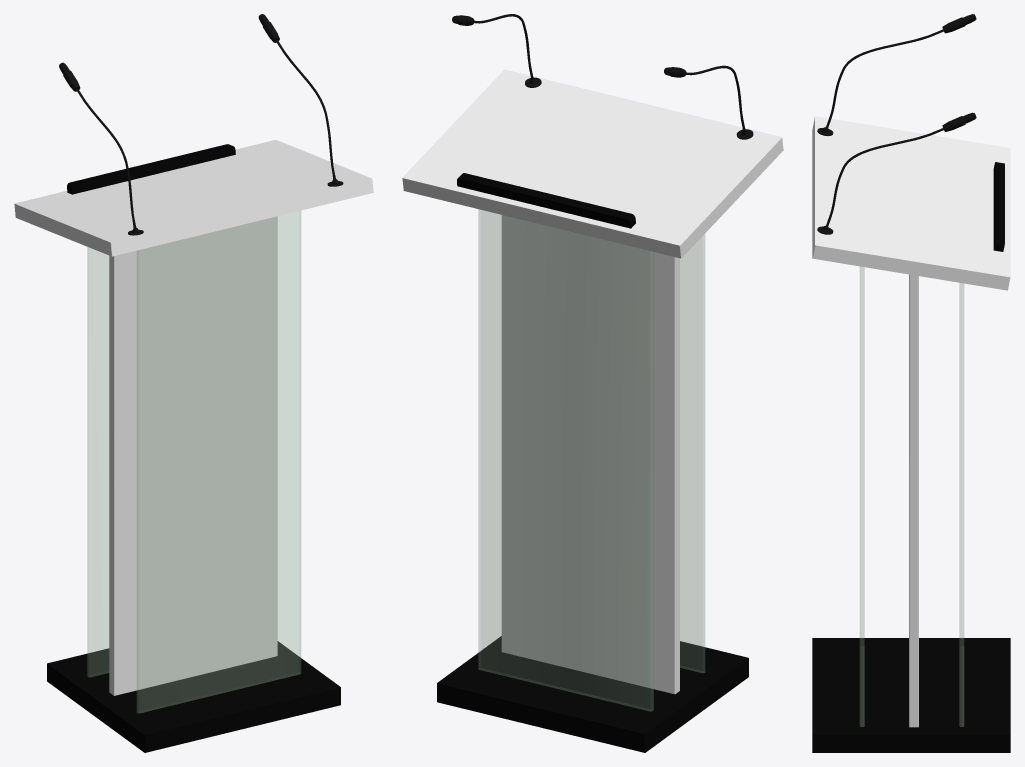
The model's file is Presidential podium 6.fbx.
3 renders of one model, left to right at view 1: azimuth 30°, elevation 25°; view 2: azimuth 150°, elevation 25°; view 3: azimuth 270°, elevation 25°, orthographic. The views are drawn at different scales.
Visible parts, largest first — view 1: Presidential podium 6; view 2: Presidential podium 6; view 3: Presidential podium 6.
Boxes of the visible parts, bbox=[...] form: Presidential podium 6: bbox=[14, 14, 373, 752]; Presidential podium 6: bbox=[402, 14, 783, 752]; Presidential podium 6: bbox=[812, 14, 1010, 752].
Bounding box in the file's own units: 61.64 × 143 × 40.
5 materials, 3 textured.
